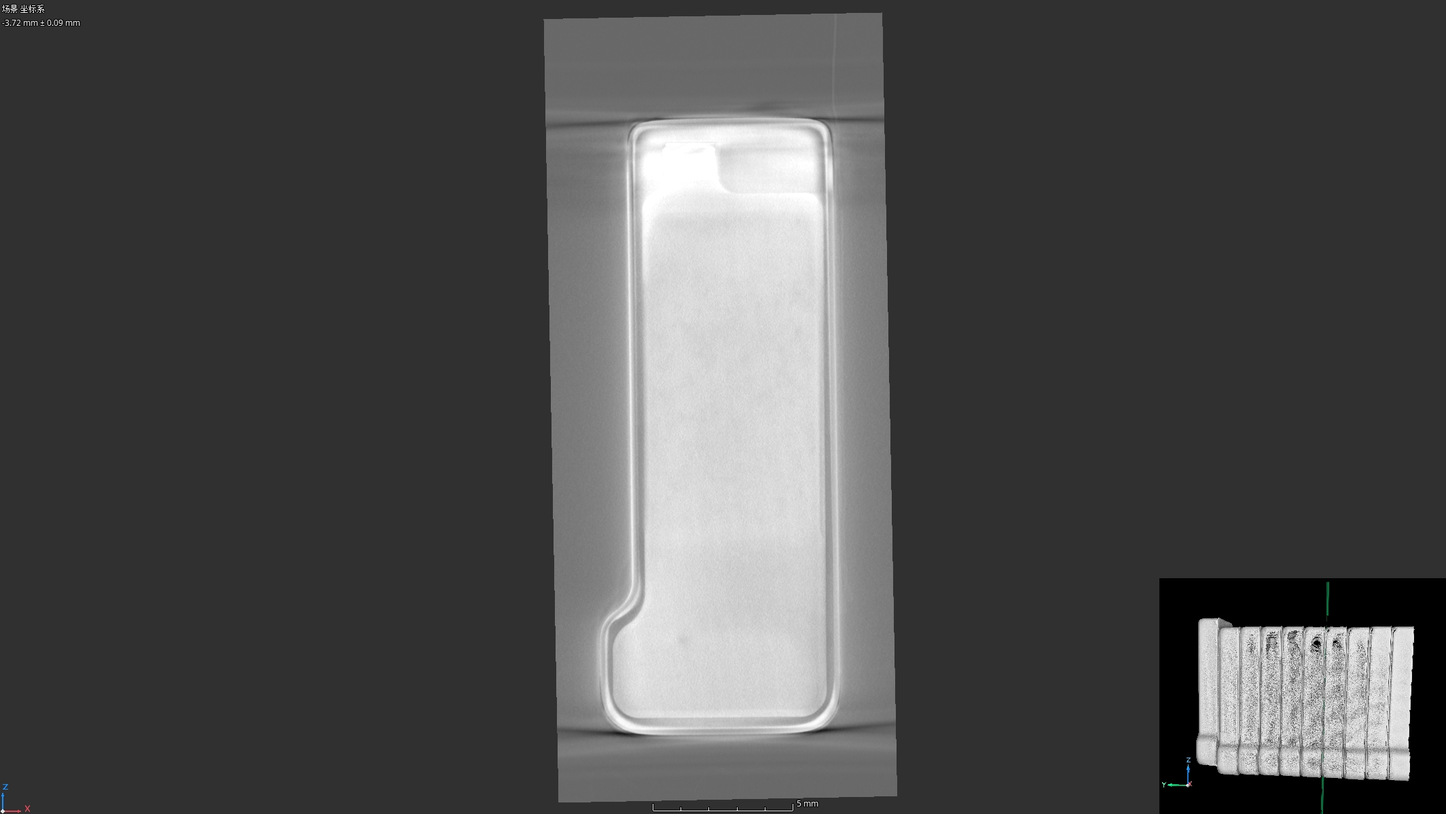dark: (674, 634, 690, 648)
